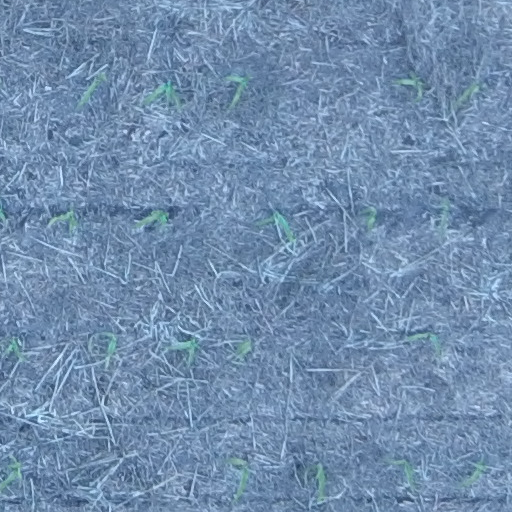planta: (256, 212, 296, 242), (163, 336, 200, 364), (143, 81, 182, 107), (226, 457, 249, 500), (78, 72, 104, 108), (303, 462, 326, 501), (223, 73, 251, 105), (396, 74, 423, 104), (454, 81, 482, 107), (407, 330, 440, 350), (135, 209, 169, 228), (51, 208, 79, 231), (462, 460, 486, 486), (393, 460, 416, 486), (4, 336, 25, 360), (103, 329, 118, 356), (361, 207, 376, 229), (439, 199, 449, 232)
